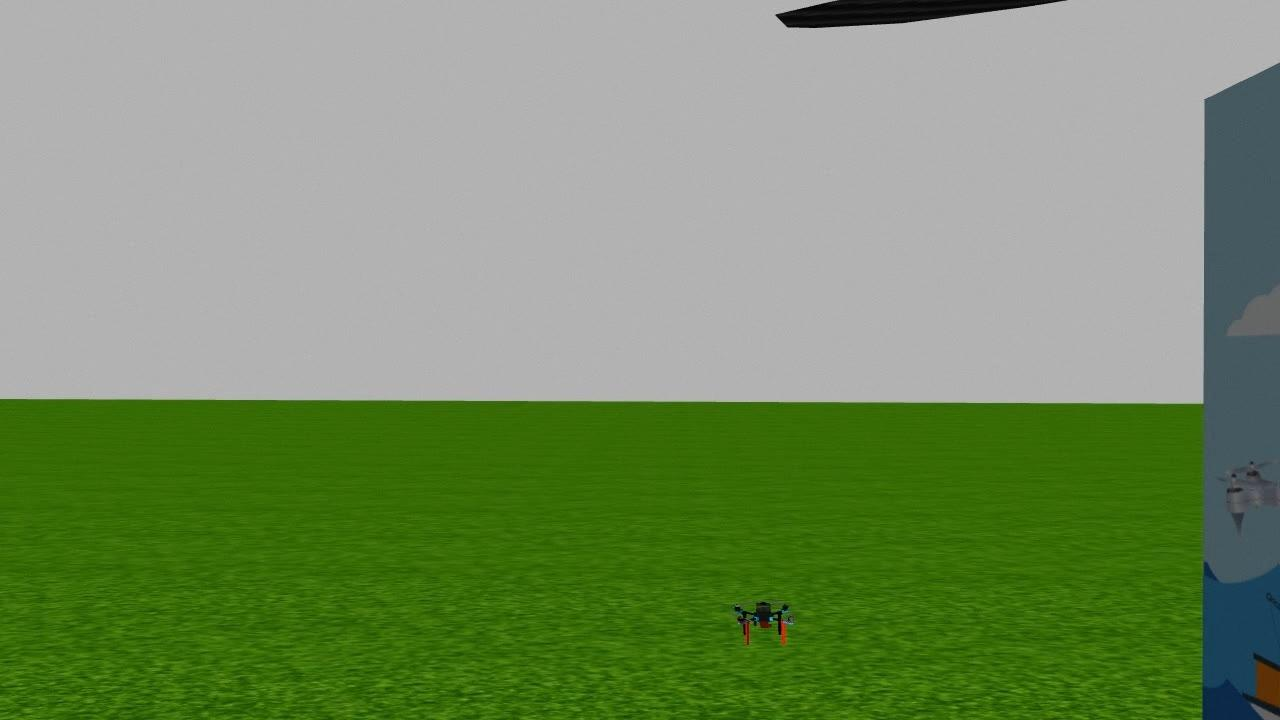UAV: (711, 582, 818, 651)
